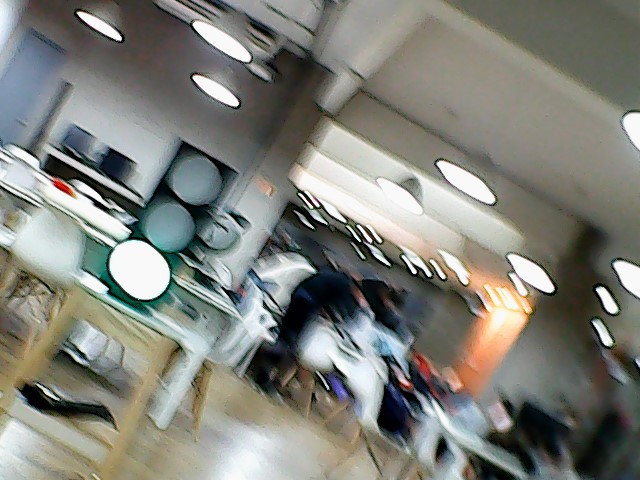verde: (99, 134, 241, 318)
